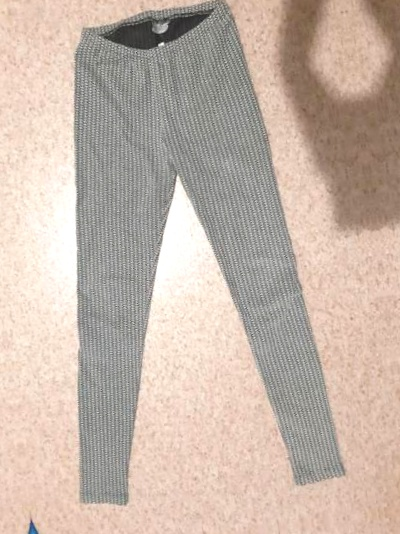Pants: (18, 0, 359, 532), (394, 0, 400, 478)
